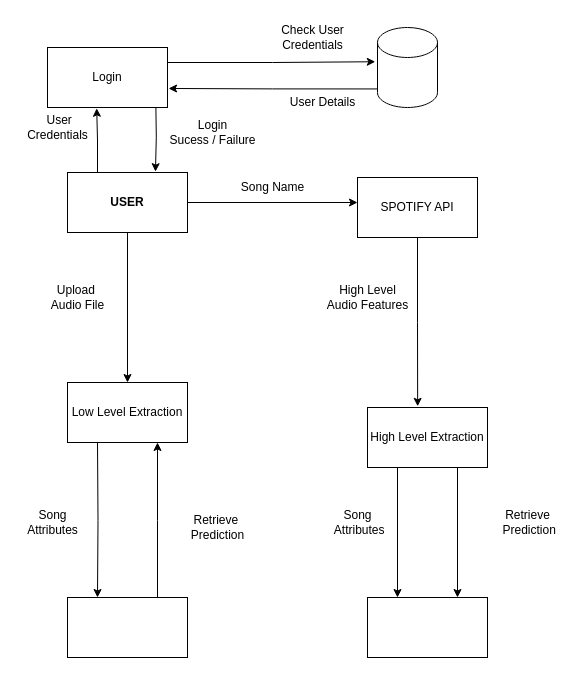
Some shapes in this 584 by 675 pixel diagram are drawn without their labels. Each missing label, with the centre of its shape:
DB: (x=407, y=67)
High Level Model pkl file: (x=427, y=627)
Low Level Model pkl file: (x=127, y=627)
